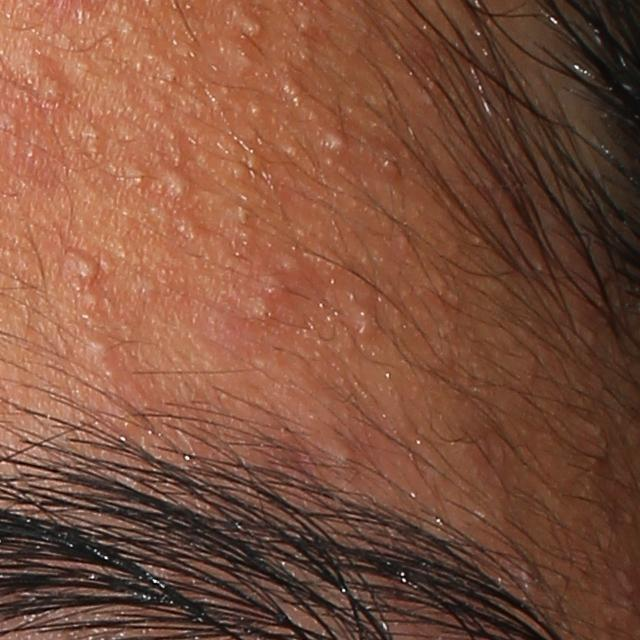comedo: (347, 295, 380, 342), (247, 293, 281, 330), (158, 169, 191, 206), (230, 7, 267, 40), (35, 67, 66, 106), (329, 430, 357, 470), (69, 255, 102, 286), (78, 121, 111, 152), (376, 149, 406, 183), (273, 253, 307, 281), (240, 96, 270, 127), (87, 336, 115, 369), (318, 124, 346, 157), (152, 60, 182, 90), (280, 75, 305, 106)
